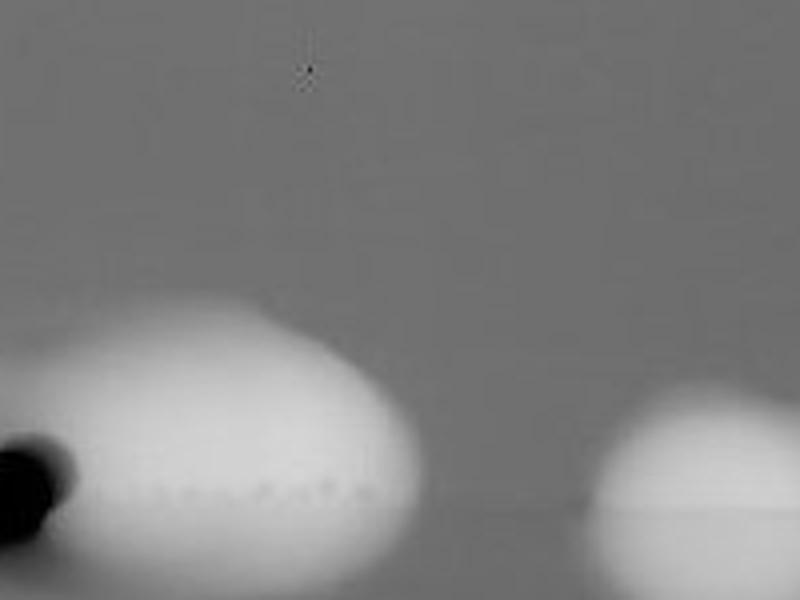defect: (1, 441, 62, 549), (303, 62, 317, 79)
